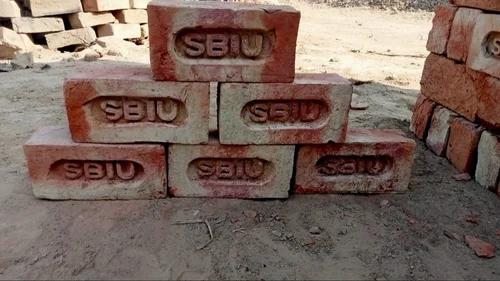brick: (146, 5, 300, 83), (65, 82, 210, 147), (221, 84, 353, 145), (24, 144, 165, 199), (167, 144, 293, 198), (296, 142, 411, 196)
